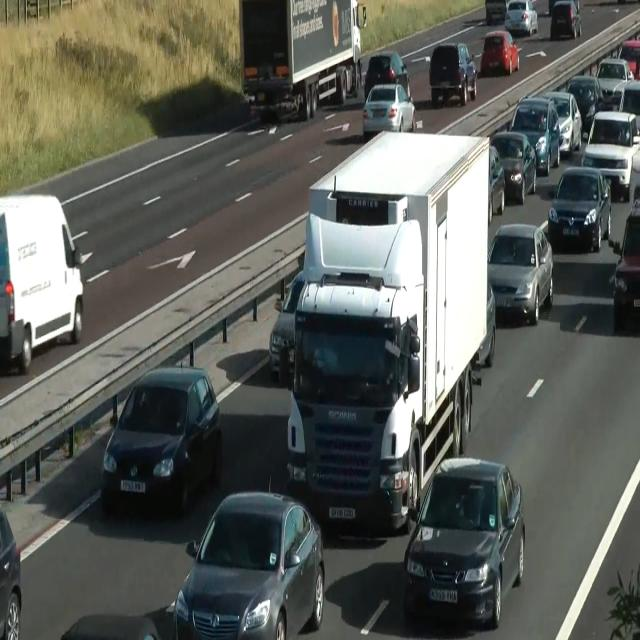bus: (173, 487, 325, 639), (403, 456, 525, 629), (100, 361, 222, 516), (487, 222, 553, 326), (548, 166, 612, 252), (581, 110, 639, 200), (268, 268, 305, 379), (489, 130, 537, 204), (613, 198, 639, 327), (0, 506, 22, 639), (362, 83, 416, 137), (541, 90, 582, 154), (60, 613, 160, 639), (564, 74, 604, 138), (364, 51, 411, 102), (472, 278, 496, 368), (594, 57, 634, 106), (481, 30, 519, 76), (610, 79, 640, 135), (488, 145, 506, 225), (550, 0, 582, 39), (504, 0, 537, 36), (617, 38, 639, 80), (485, 0, 507, 25), (548, 0, 580, 16)
car: (286, 278, 420, 532)
jeep: (508, 96, 560, 176), (429, 41, 477, 107)
minibus: (286, 129, 492, 533), (239, 0, 367, 122), (0, 192, 84, 374)
